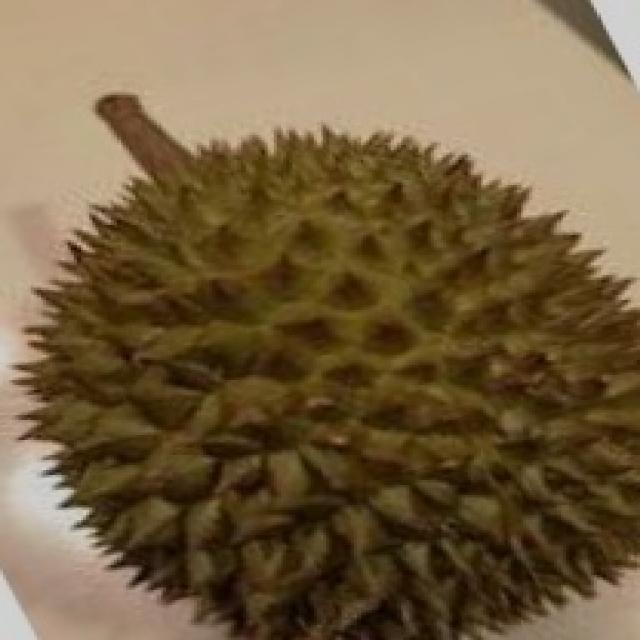fruit: (0, 262, 372, 639)
